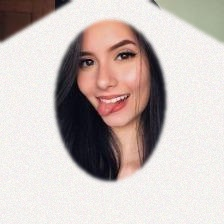Mukena: (0, 28, 222, 224)
